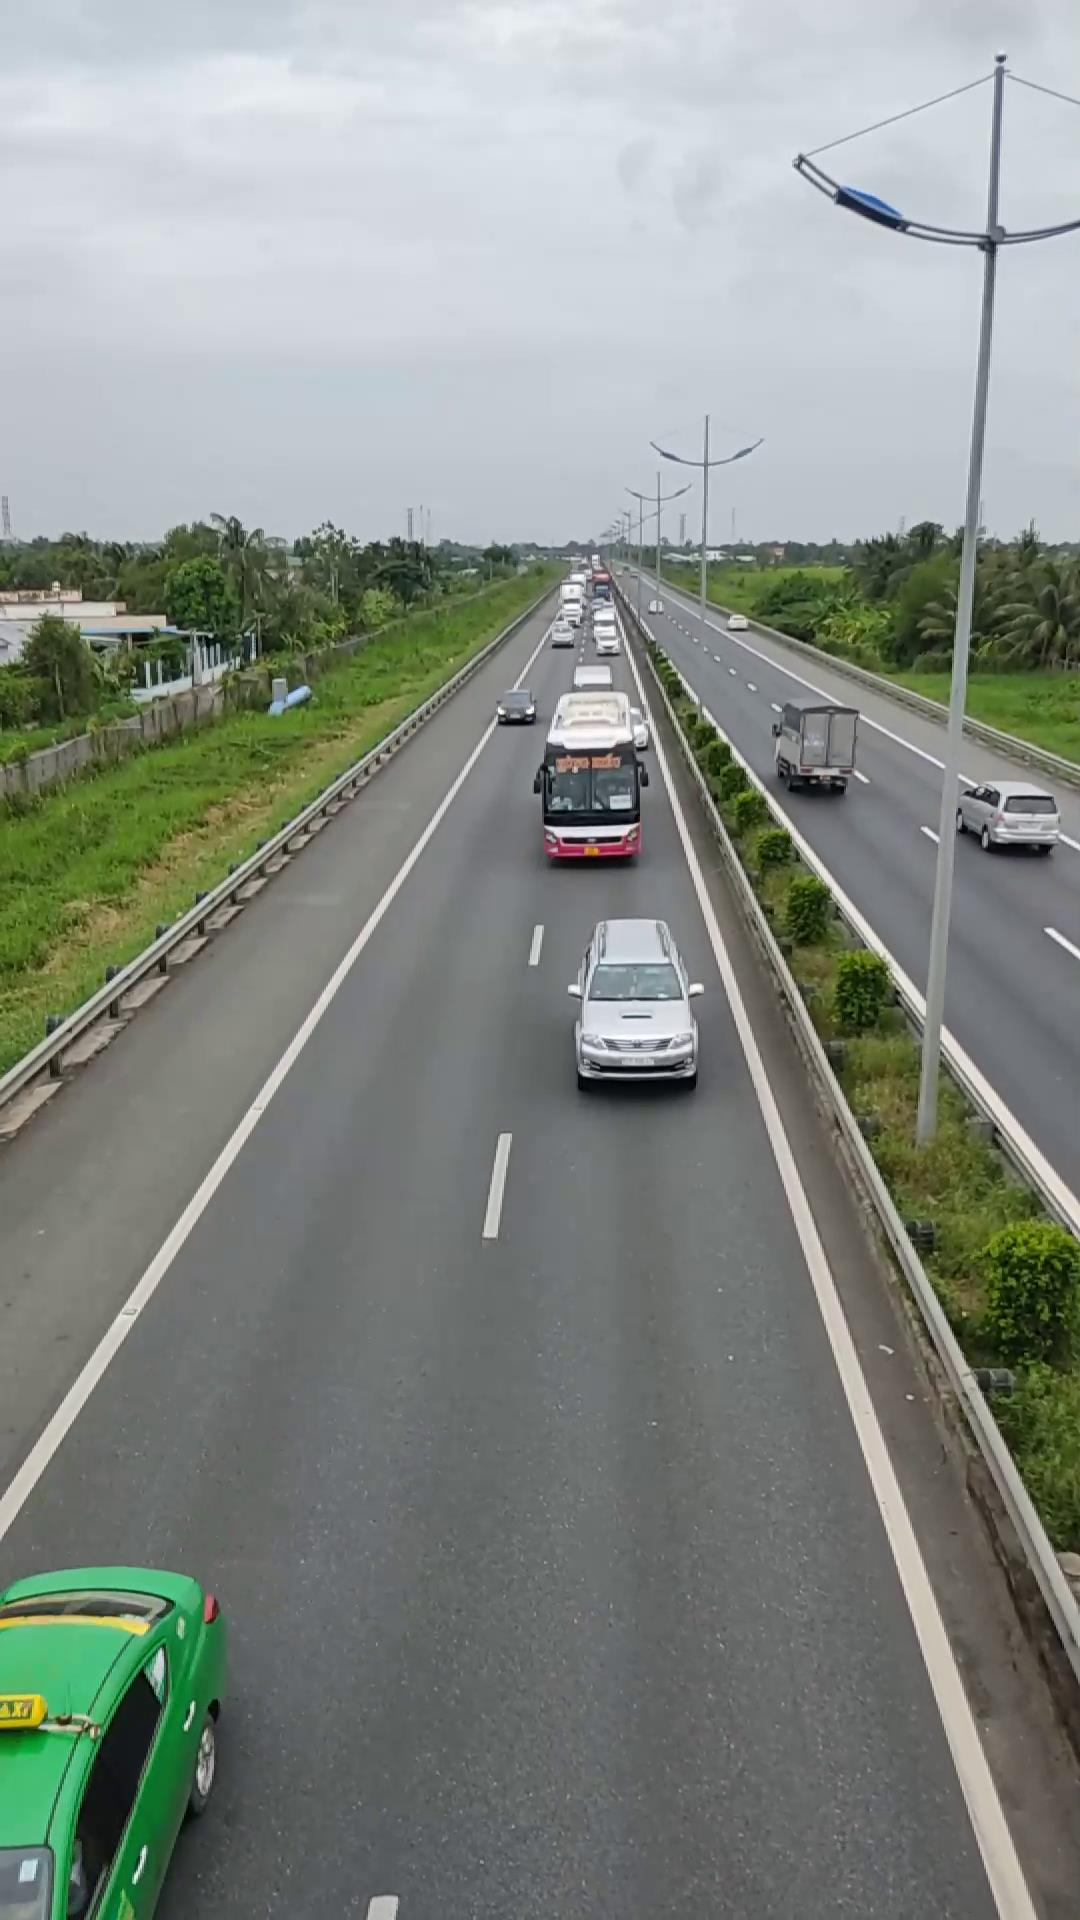bus: (533, 694, 644, 861)
car: (0, 1564, 229, 1917), (568, 915, 702, 1088), (953, 775, 1060, 853)
truck: (769, 694, 858, 793)
